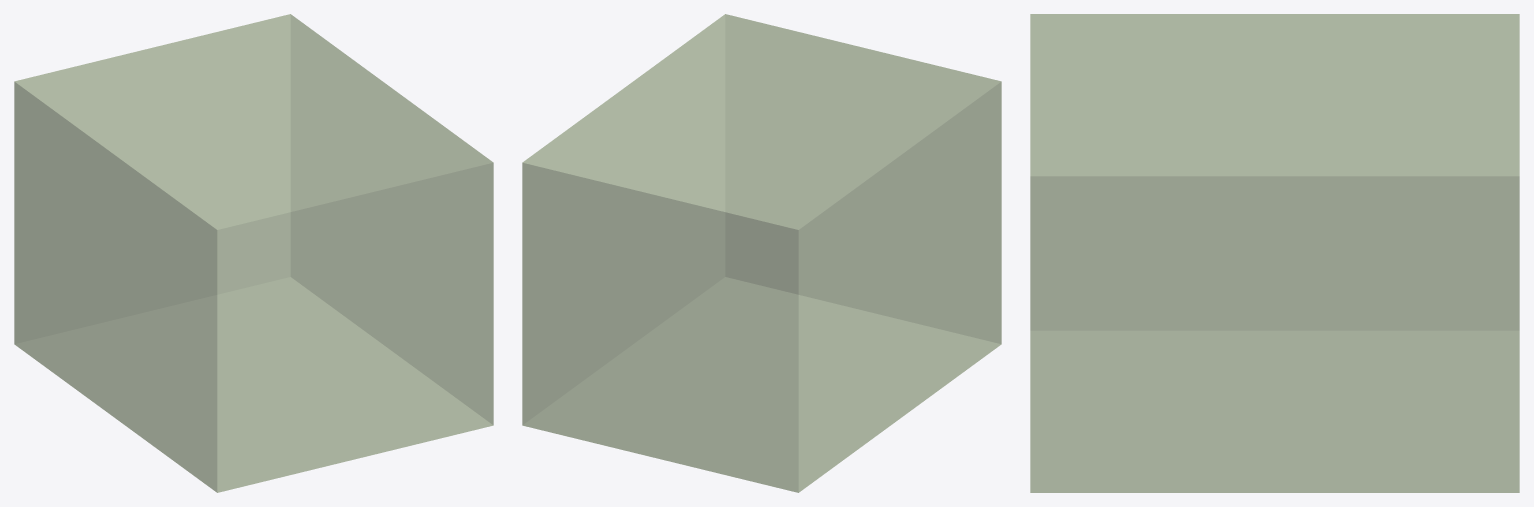
File: blockout.glb
3 views of the same model, side by side, from view 1: azimuth 30°, elevation 25°; view 2: azimuth 150°, elevation 25°; view 3: azimuth 270°, elevation 25° (orthographic). The views are drawn at different scales.
Parts seen in each view (by area): view 1: U18_ENVELOPE_NOT_FINAL_MESH; view 2: U18_ENVELOPE_NOT_FINAL_MESH; view 3: U18_ENVELOPE_NOT_FINAL_MESH.
Boxes of the visible parts, x1=… form: U18_ENVELOPE_NOT_FINAL_MESH: x1=14, y1=14, x2=493, y2=492; U18_ENVELOPE_NOT_FINAL_MESH: x1=522, y1=14, x2=1001, y2=492; U18_ENVELOPE_NOT_FINAL_MESH: x1=1030, y1=14, x2=1519, y2=492.
Size of the model in its own units: 2.2 by 2 by 2.8.
